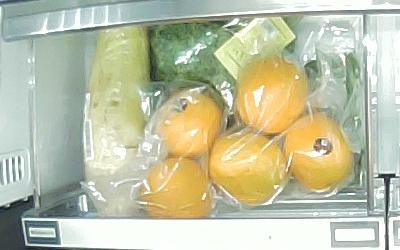orange_vinyl: (209, 132, 289, 205), (235, 55, 309, 133), (284, 113, 353, 191), (156, 90, 221, 159), (140, 158, 212, 218)
